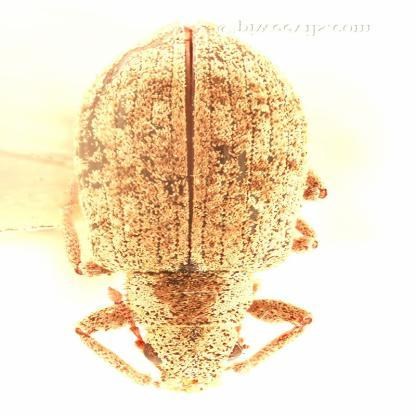rice-bug: (61, 24, 330, 394)
